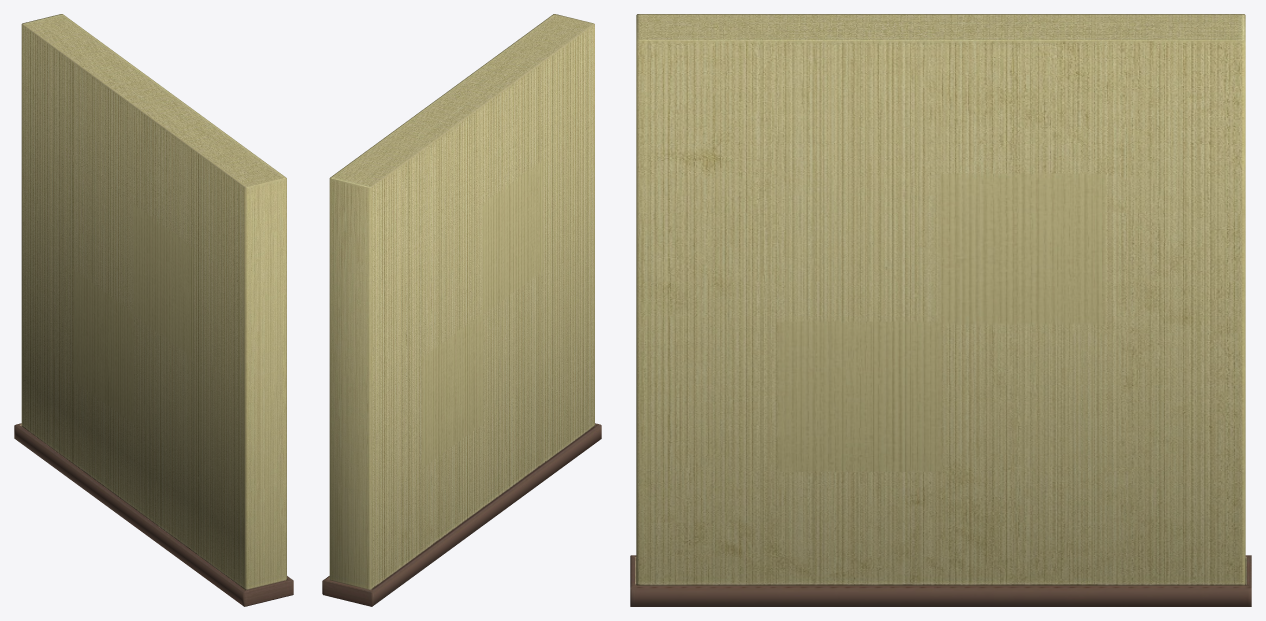
File: tripo_convert_c01b0f2b-e269-482b-a153-0faeb754bfa2.fbx
The picture shows the model from 3 angles, left to right: view 1: azimuth 30°, elevation 25°; view 2: azimuth 150°, elevation 25°; view 3: azimuth 270°, elevation 25°; orthographic projection. The views are drawn at different scales.
Visible parts, largest first — view 1: tripo_node_c01b0f2b; view 2: tripo_node_c01b0f2b; view 3: tripo_node_c01b0f2b.
Boxes of the visible parts, x1,y1,x2,y2 form: tripo_node_c01b0f2b: (14,14,293,606); tripo_node_c01b0f2b: (322,14,601,606); tripo_node_c01b0f2b: (630,14,1251,606).
Bounding box in the file's own units: 0.127 × 0.998 × 0.998.
Materials: 1 (1 with a texture image).
